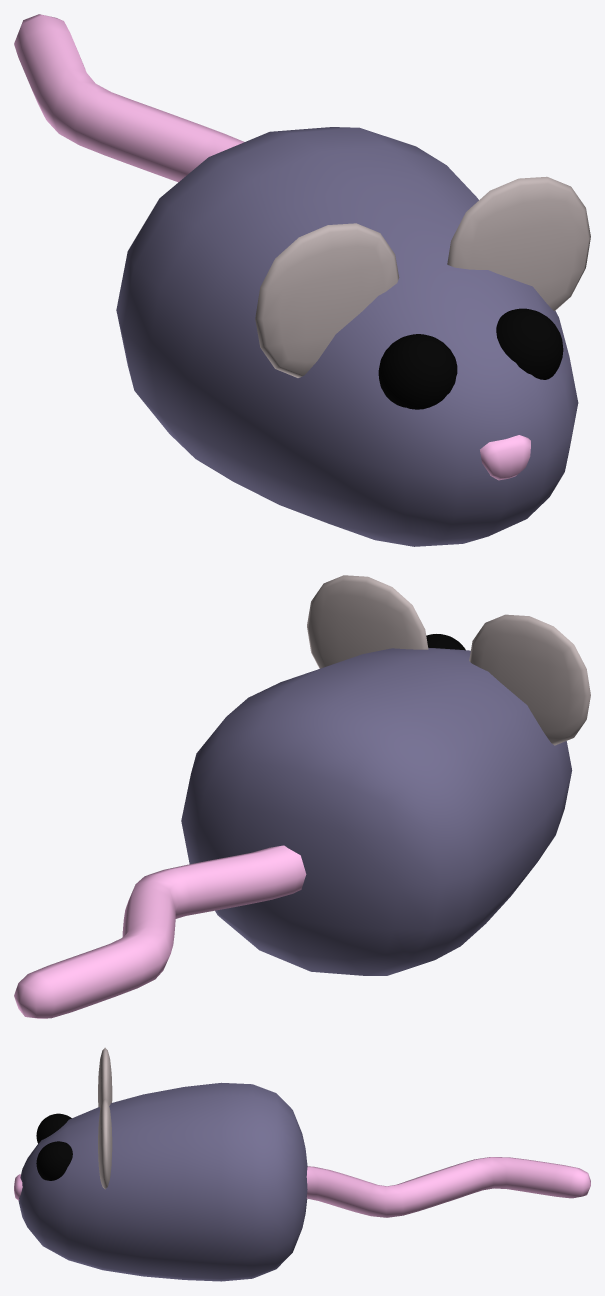
Rendered from MOUSE COLLECTABLE.fbx.
3 renders of one model, top to bottom at view 1: azimuth 30°, elevation 25°; view 2: azimuth 150°, elevation 25°; view 3: azimuth 270°, elevation 25°, orthographic. The views are drawn at different scales.
Parts seen in each view (by area): view 1: Cube; view 2: Cube; view 3: Cube.
Boxes of the visible parts, x1,y1,x2,y2 form: Cube: (14,14,590,546); Cube: (14,575,590,1018); Cube: (14,1047,590,1281).
Size of the model in its own units: 41.09 by 39.7 by 109.
